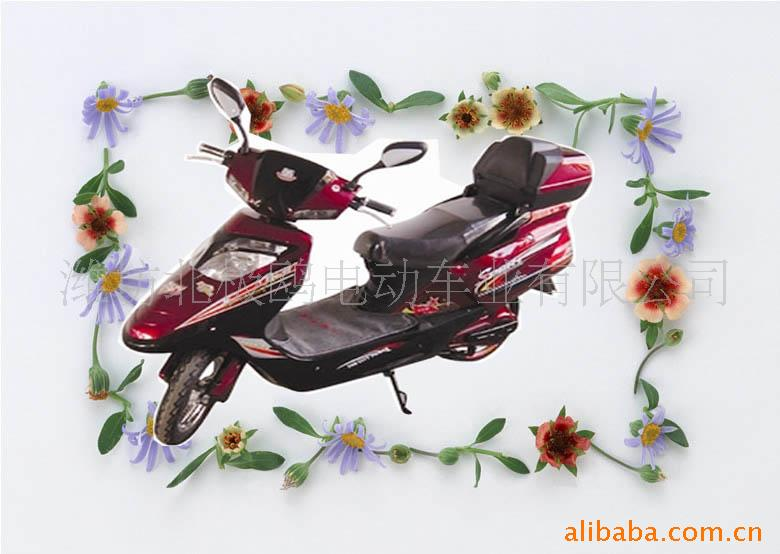电动车: (117, 55, 599, 444)
